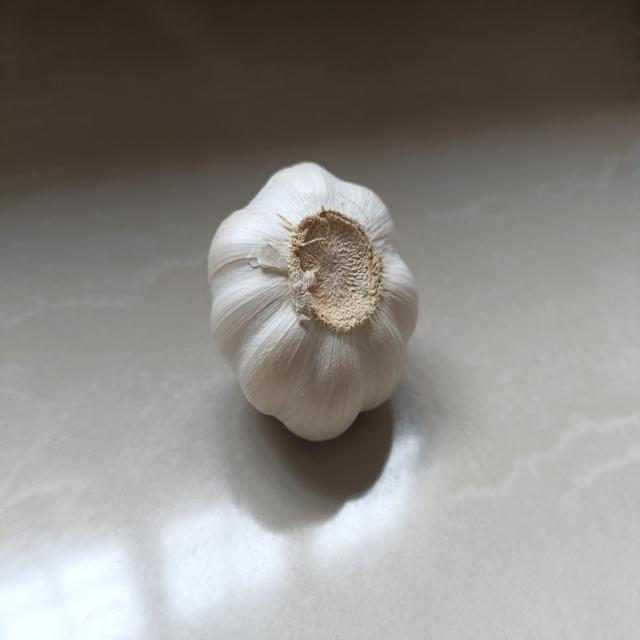garlic: (204, 154, 423, 450)
